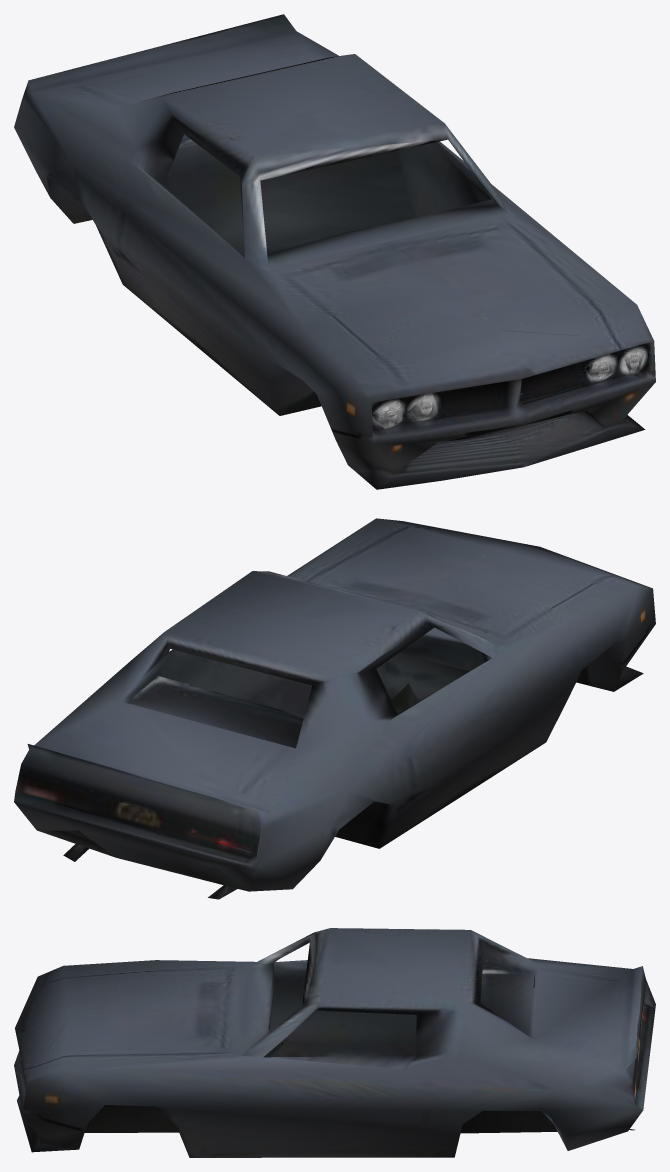
Rendered from muscle-black.glb.
3 views of the same model, one above another, from view 1: azimuth 30°, elevation 25°; view 2: azimuth 150°, elevation 25°; view 3: azimuth 270°, elevation 25° (orthographic). The views are drawn at different scales.
Visible parts, largest first — view 1: tripo_part_9; view 2: tripo_part_9; view 3: tripo_part_9.
Boxes of the visible parts, bbox=[...] form: tripo_part_9: bbox=[14, 14, 655, 489]; tripo_part_9: bbox=[14, 518, 655, 891]; tripo_part_9: bbox=[14, 928, 655, 1157].
Size of the model in its own units: 0.4737 by 0.2583 by 1.
9 materials, 9 textured.
